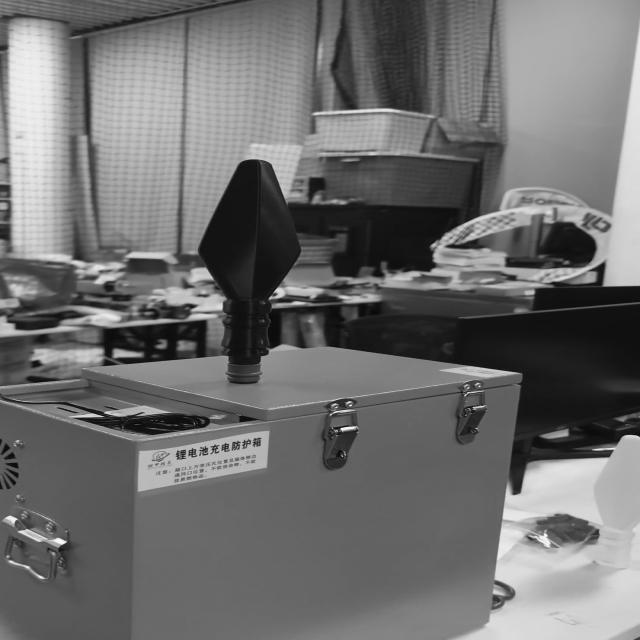base: (225, 361, 262, 383)
